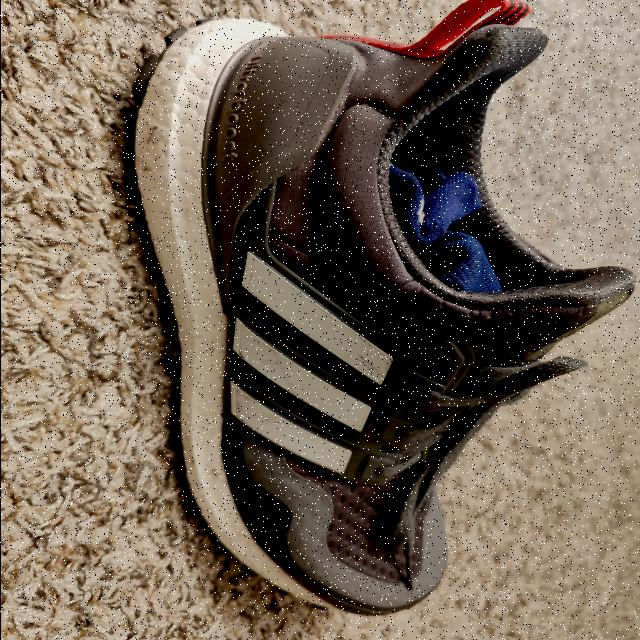black shoes: (132, 1, 632, 616)
